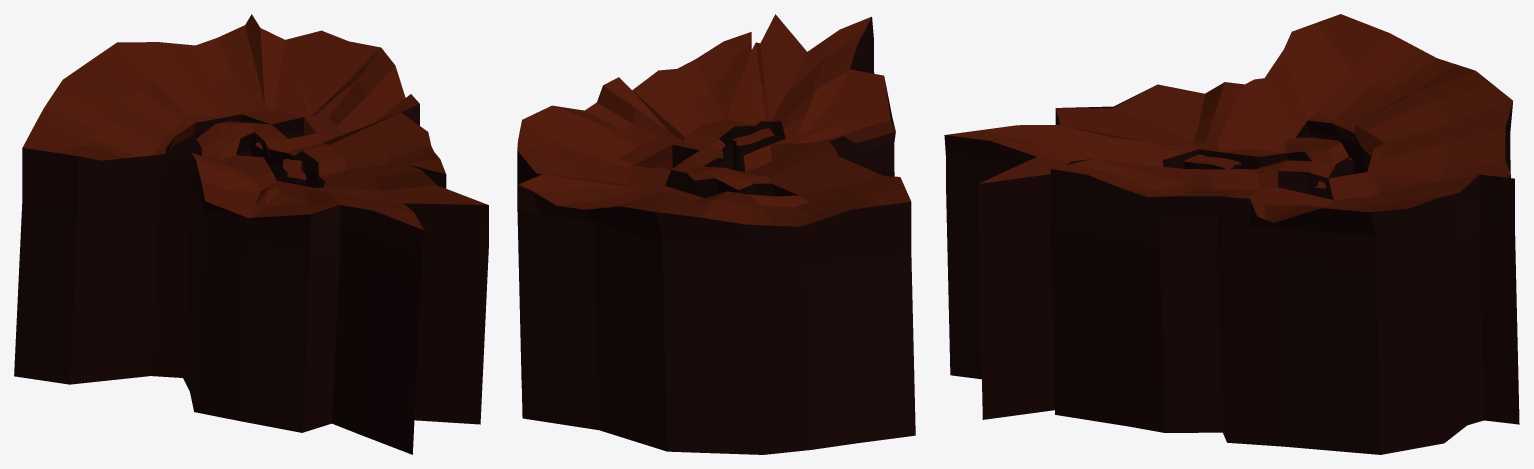
The model's file is LVL2_TERRAIN.glb.
The picture shows the model from 3 angles, left to right: view 1: azimuth 30°, elevation 25°; view 2: azimuth 150°, elevation 25°; view 3: azimuth 270°, elevation 25°; orthographic projection. The views are drawn at different scales.
Parts seen in each view (by area): view 1: Cube; view 2: Cube; view 3: Cube.
Boxes of the visible parts, x1,y1,x2,y2 form: Cube: (14, 14, 488, 454); Cube: (517, 14, 915, 454); Cube: (944, 14, 1519, 454).
Bounding box in the file's own units: 26.46 × 15.61 × 31.91.
